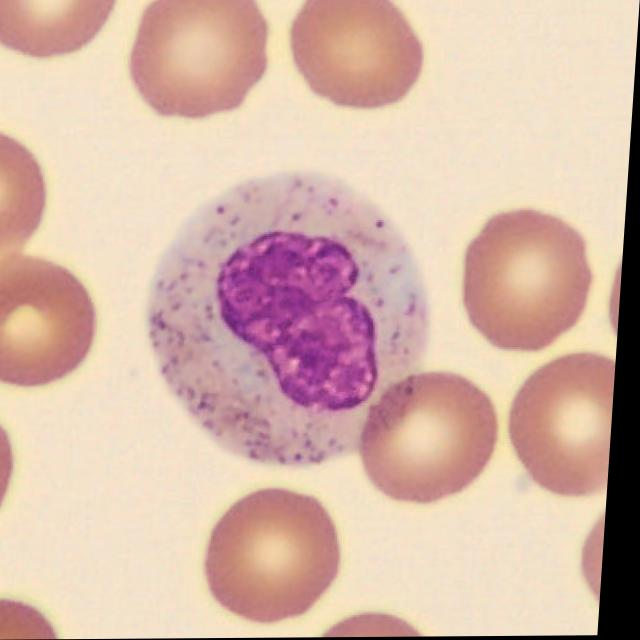Neutrofilo segmentado: (149, 172, 435, 468)
